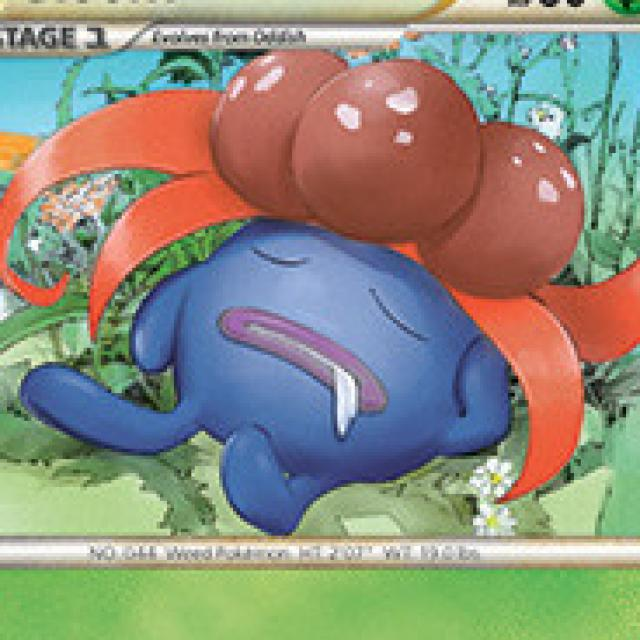Gloom: (136, 54, 585, 502)
